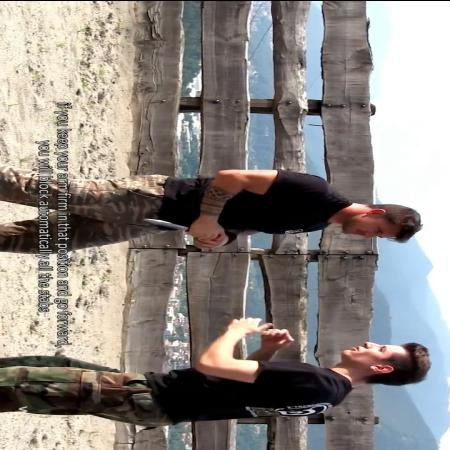long weapon: (137, 213, 220, 237)
